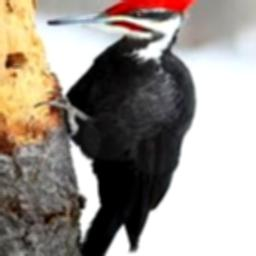Woodpecker: (34, 0, 194, 256)
